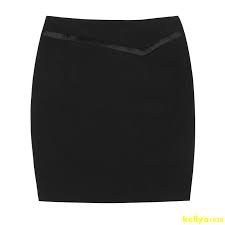F_tailored skirt: (24, 12, 199, 212)
